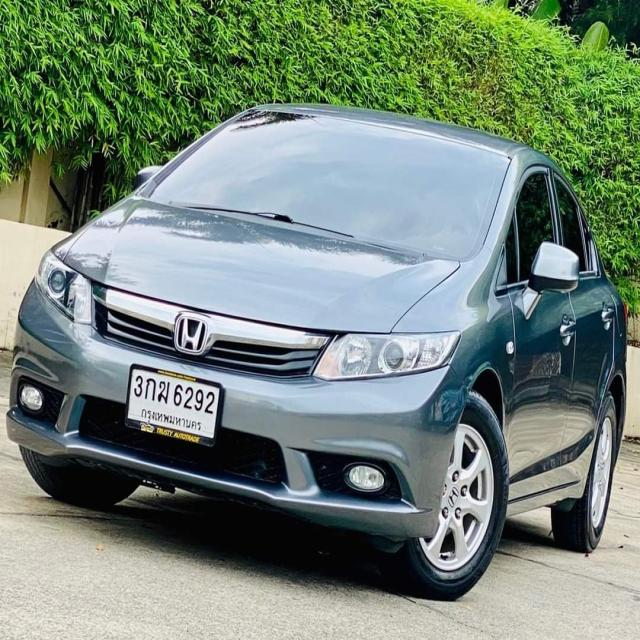license_plate: (120, 359, 227, 454)
